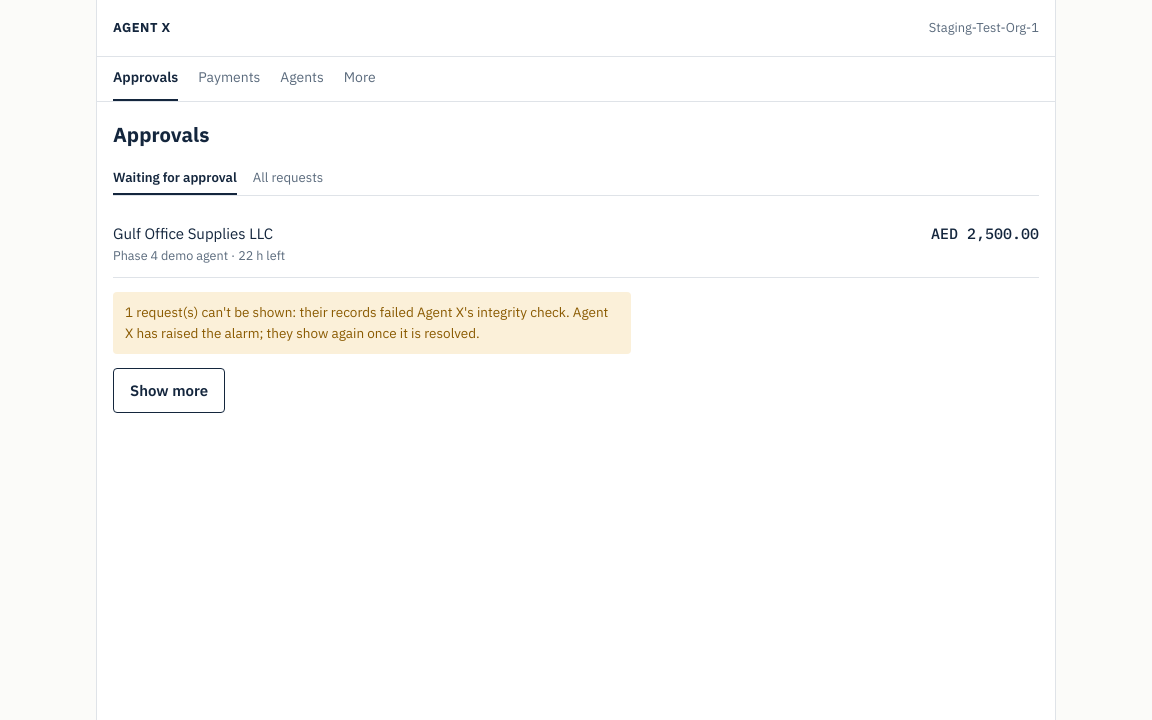
Scenario: the approvals lists (6B1) › reads the next page on Show more, and says how many couldn’t be shown
Check: the text "1 request(s) can't be shown" is shown, box [125,303,608,342]
What coordinates should you click on to do the following:
click the button "Show more"
I would click on:
 (169, 391)
Its box is [113,368,225,413].
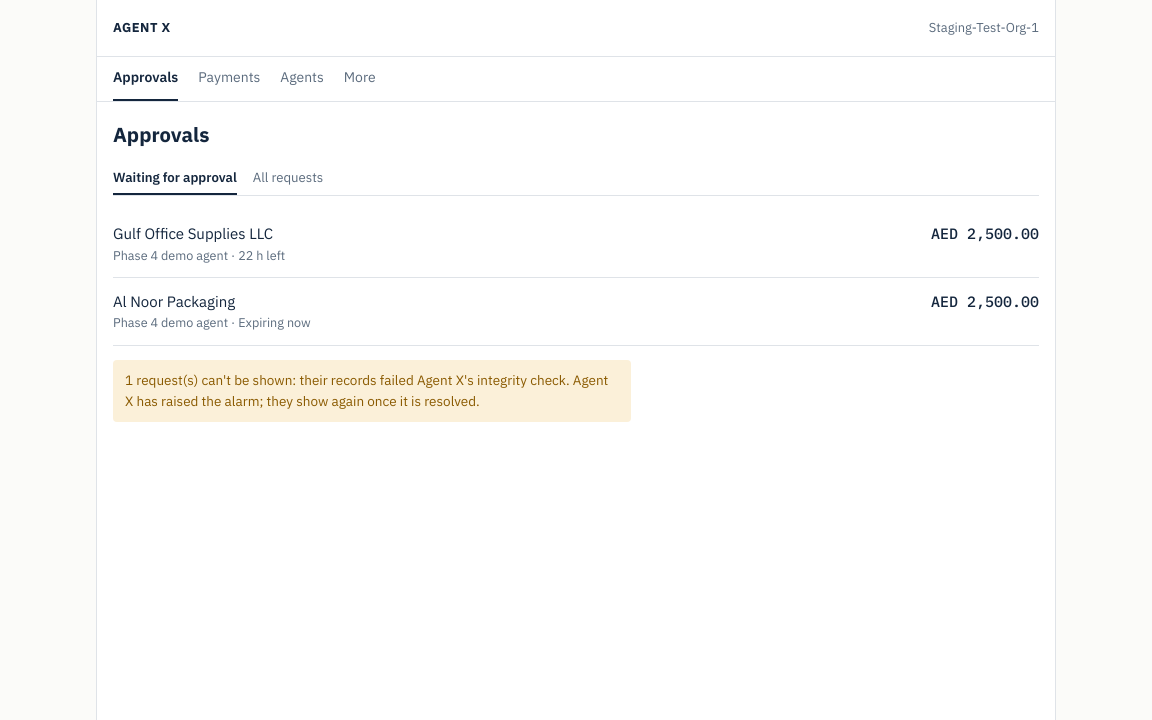
Check: the text "Al Noor Packaging" is shown, box [113,292,235,311]
Check: the text "Phase 4 demo agent · Expiring now" is shown, box [113,313,311,333]
Check: the button "Show more" is gone
